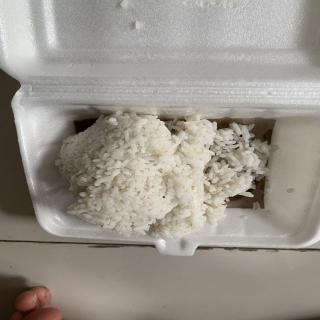Nasi: (57, 115, 267, 239)
